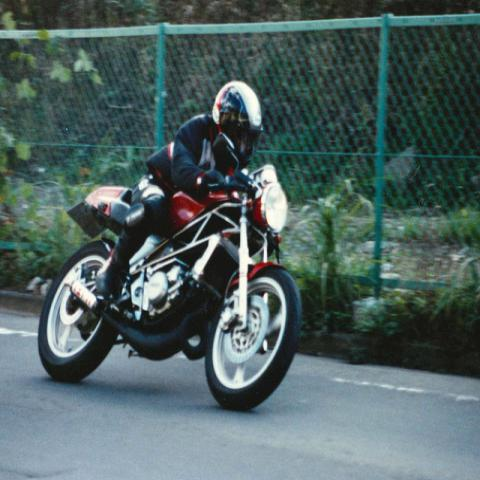motorcycle: (40, 165, 304, 412)
